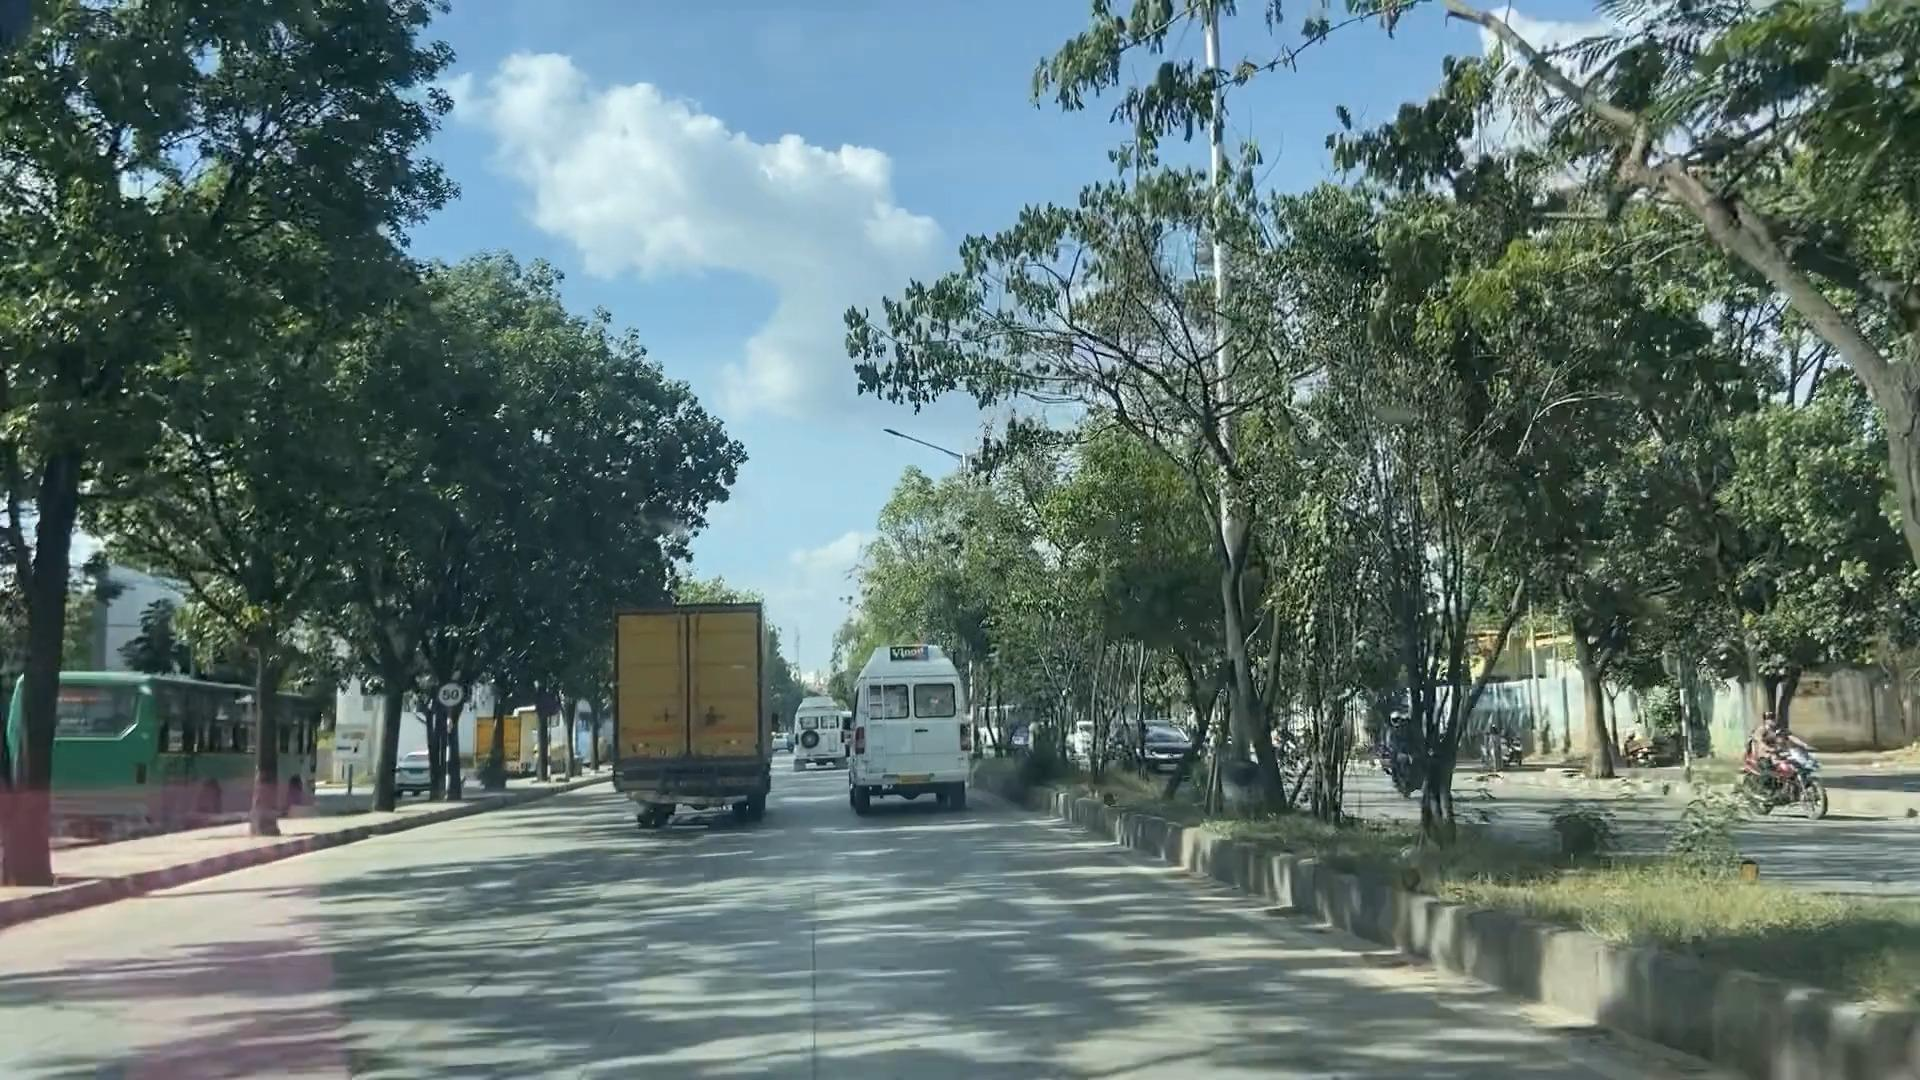HMV: (608, 612, 769, 828), (848, 655, 973, 816)
